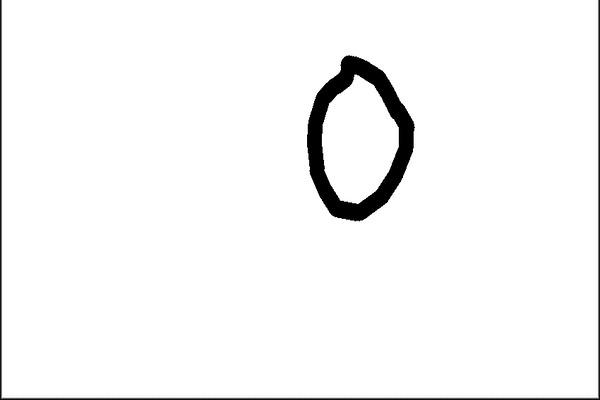O: (288, 45, 423, 229)
